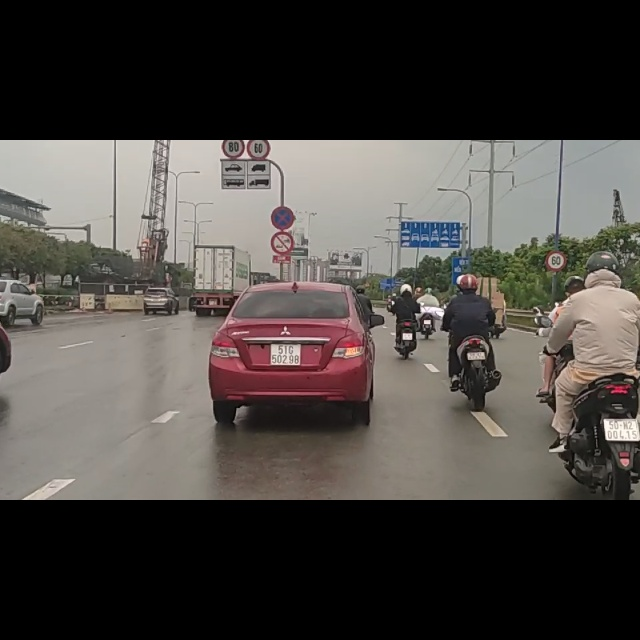bien_chi_dan: (270, 117, 295, 159), (221, 1, 245, 33), (247, 1, 270, 34), (546, 198, 567, 232)
